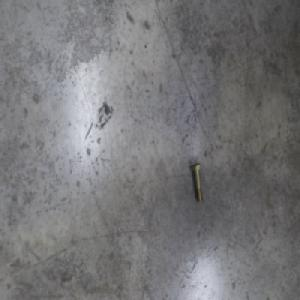Bolt: (191, 160, 204, 202)
